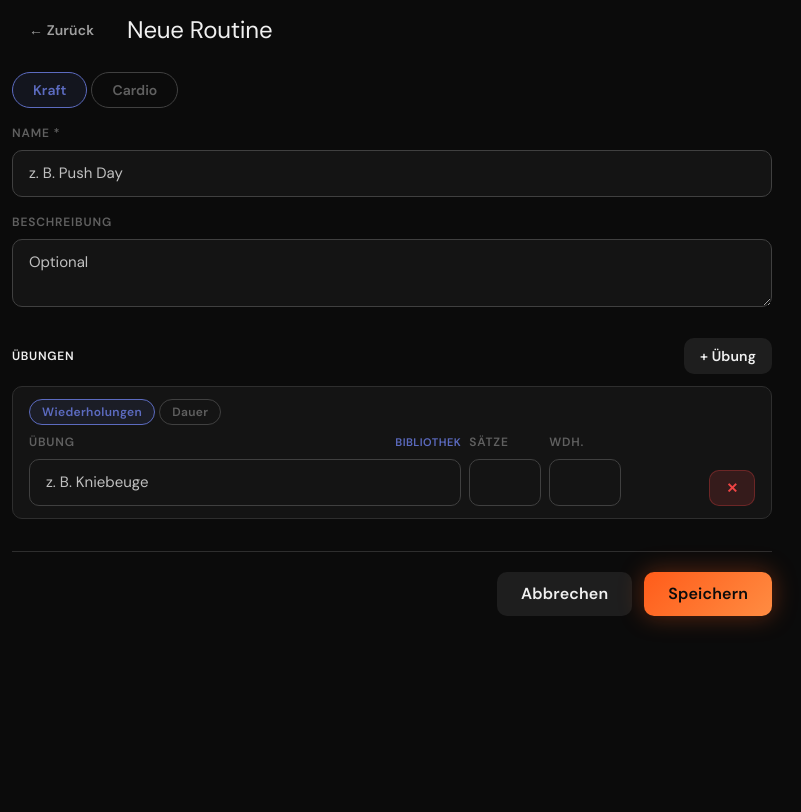
Test case: RoutineForm – Übungsbibliothek › zeigt "Keine Übungen gefunden" bei leerem Suchergebnis
This screenshot has width=801, height=812.
Click the button "Bibliothek". click: (428, 442)
box: 395,435 -> 461,449
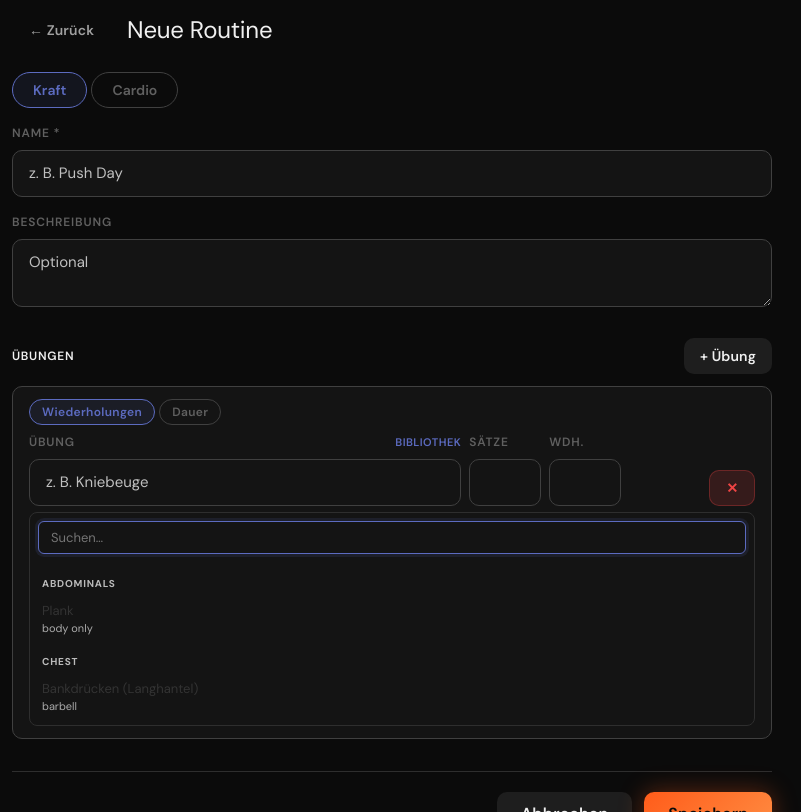
Type "xyzxyz" into the field with placeholder "Suchen…". click: (392, 538)
box: 38,521 -> 746,554
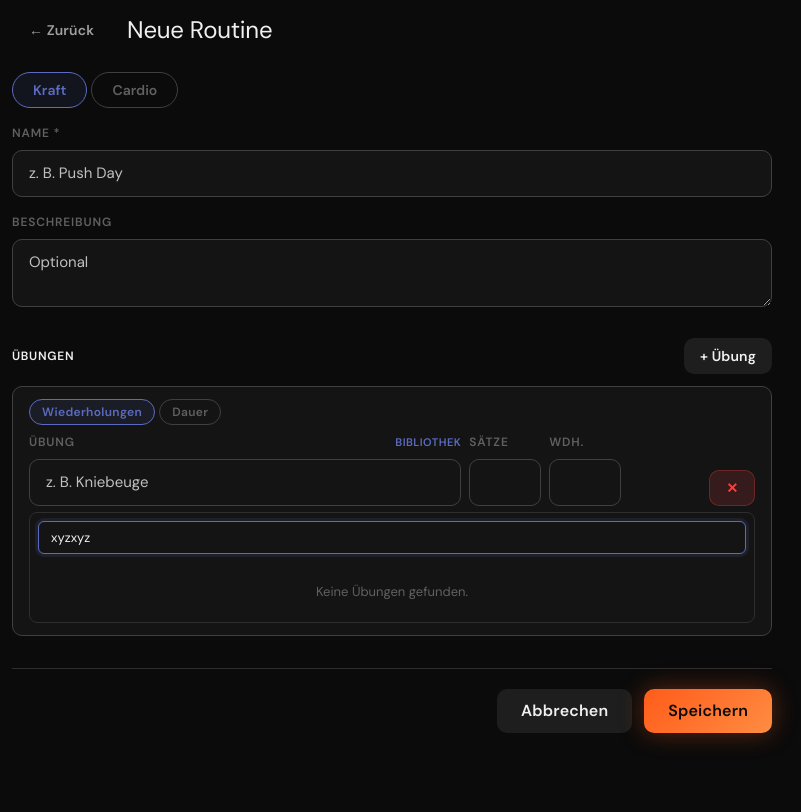
Expected: the text "Keine Übungen gefunden." is shown, 316,583 -> 468,600
